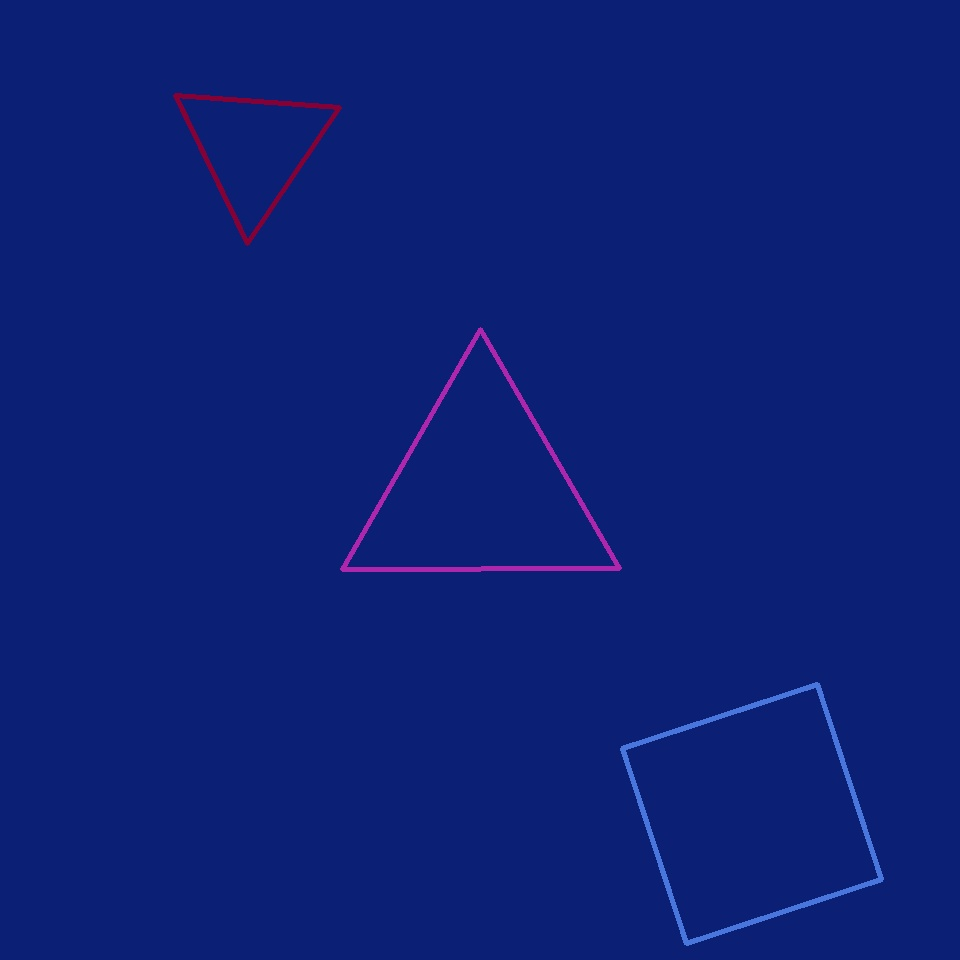circle: (343, 369, 620, 609), (172, 75, 336, 223)
square: (622, 684, 882, 944)
